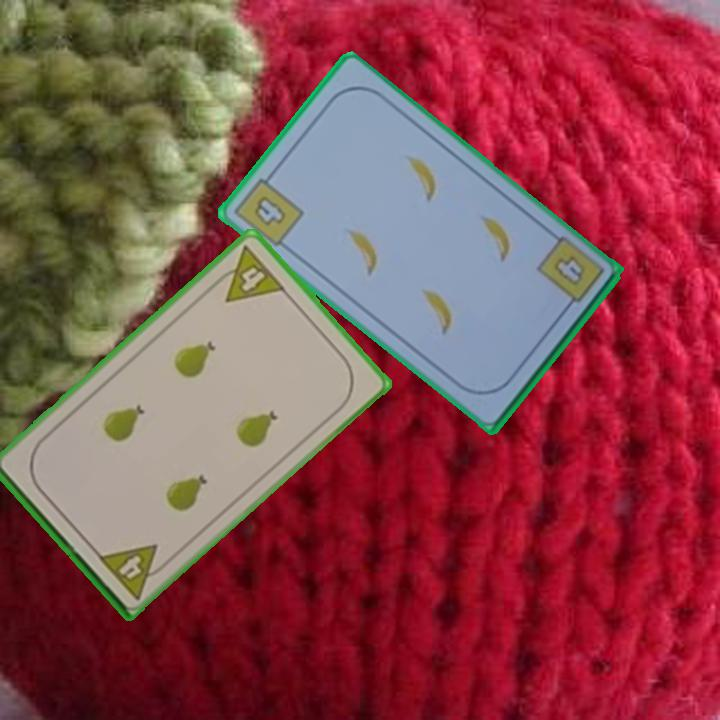4b: (229, 167, 307, 251), (549, 252, 588, 290)
4p: (208, 242, 289, 306), (94, 540, 172, 602)
